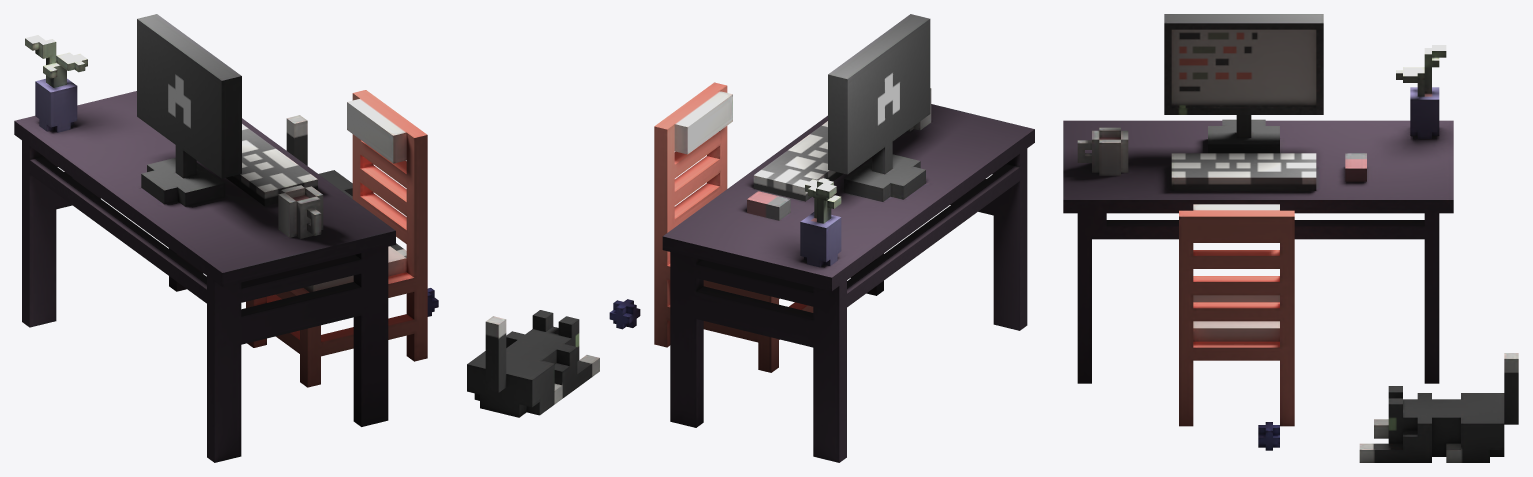
3 renders of one model, left to right at view 1: azimuth 30°, elevation 25°; view 2: azimuth 150°, elevation 25°; view 3: azimuth 270°, elevation 25°, orthographic. The views are drawn at different scales.
Parts seen in each view (by area): view 1: Workplace; view 2: Workplace; view 3: Workplace.
Part boxes in pixels (box(x1,y1,x2,y2)): Workplace: box(14, 14, 438, 462); Workplace: box(467, 14, 1034, 462); Workplace: box(1063, 14, 1518, 462).
Size of what is drawn, in the model's own units: 5.2 by 4.8 by 6.3.
1 material, 1 textured.
